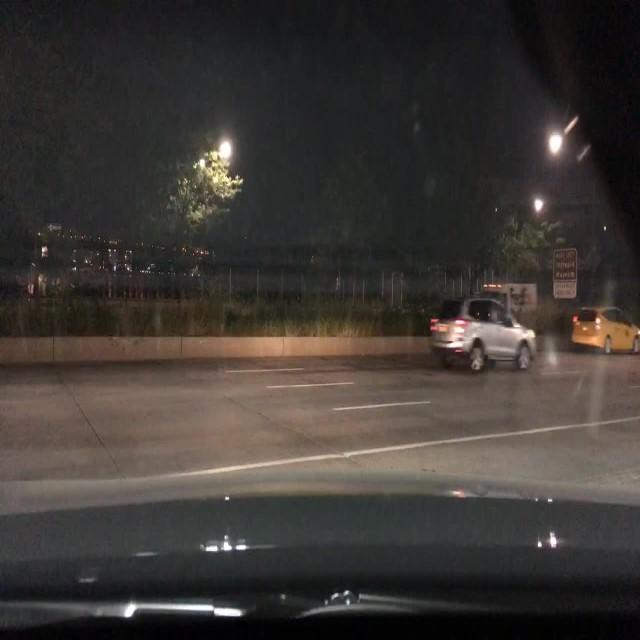normal: (404, 196, 639, 426)
